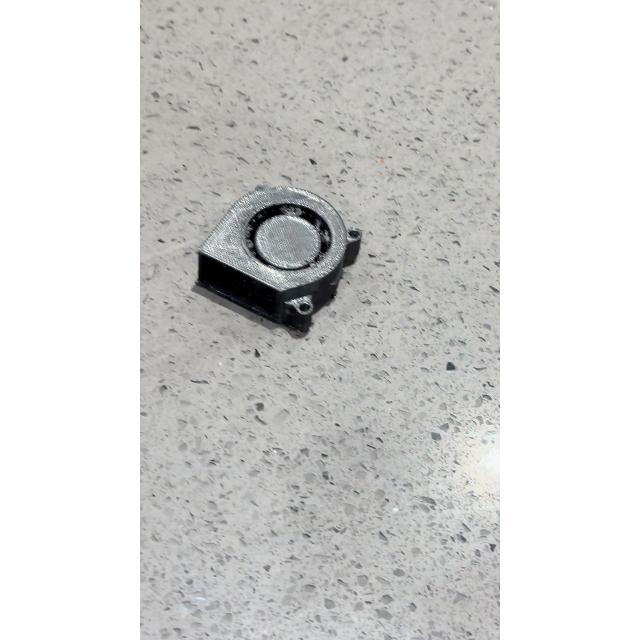Pieza_3: (188, 178, 368, 344)
